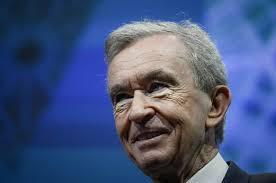Persons: (99, 18, 228, 175)
